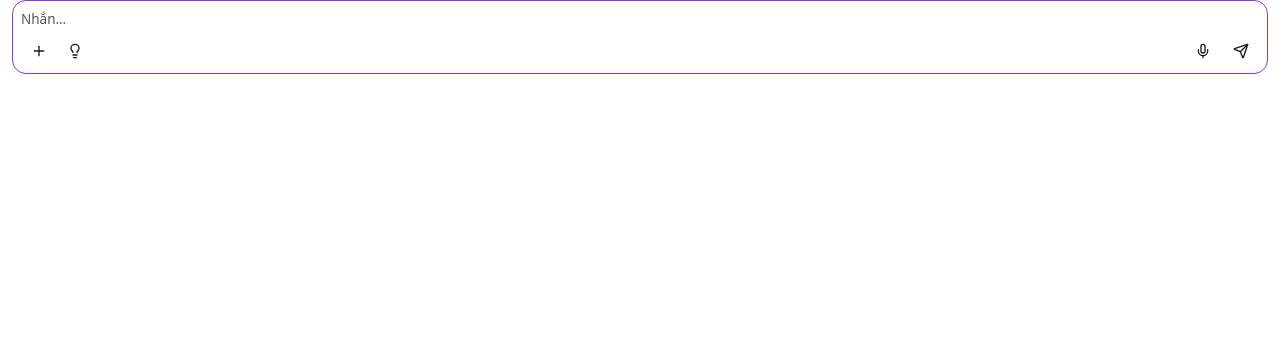
Test: Composer slash skills › closes the popup on Escape
Type "/" into the text box at (640, 19), box x1=21 y1=9 x2=1259 y2=29
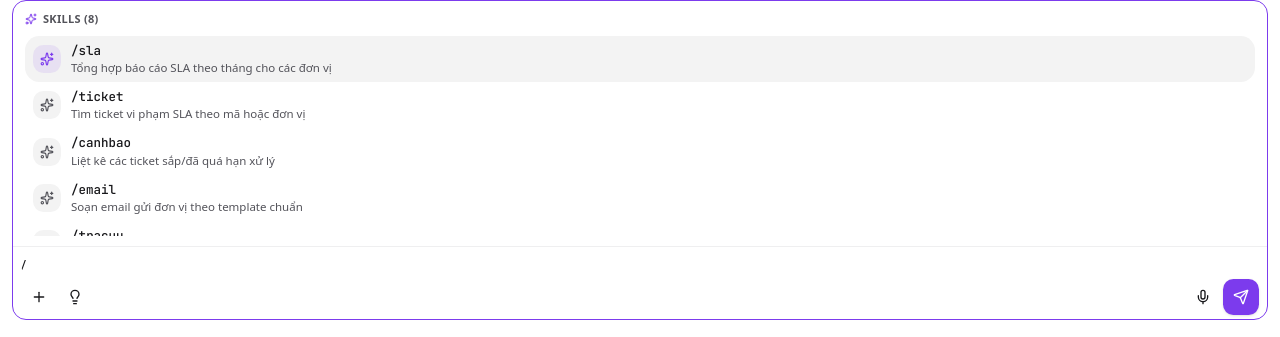
Now the text "Skills (8)" is shown, box x1=43 y1=11 x2=98 y2=28
Press Escape
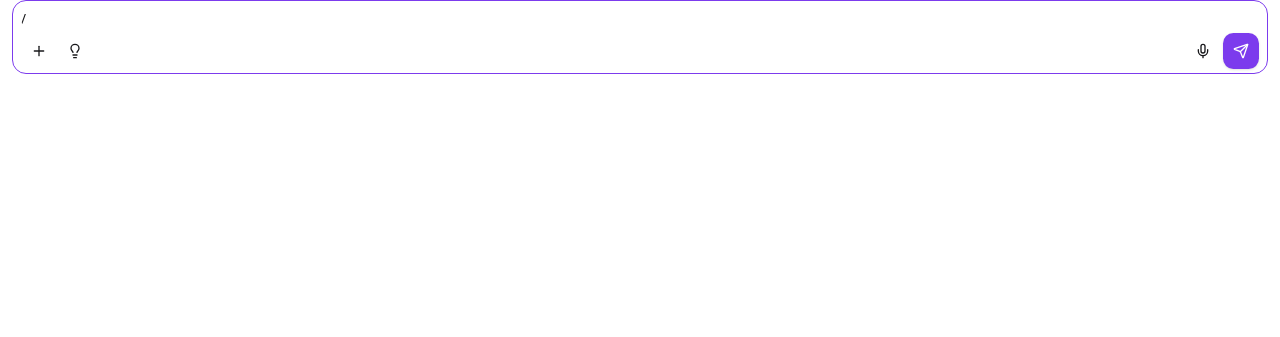
Now the button "báo cáo SLA" is gone
